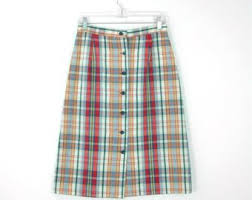C_skirt: (44, 15, 201, 200)
